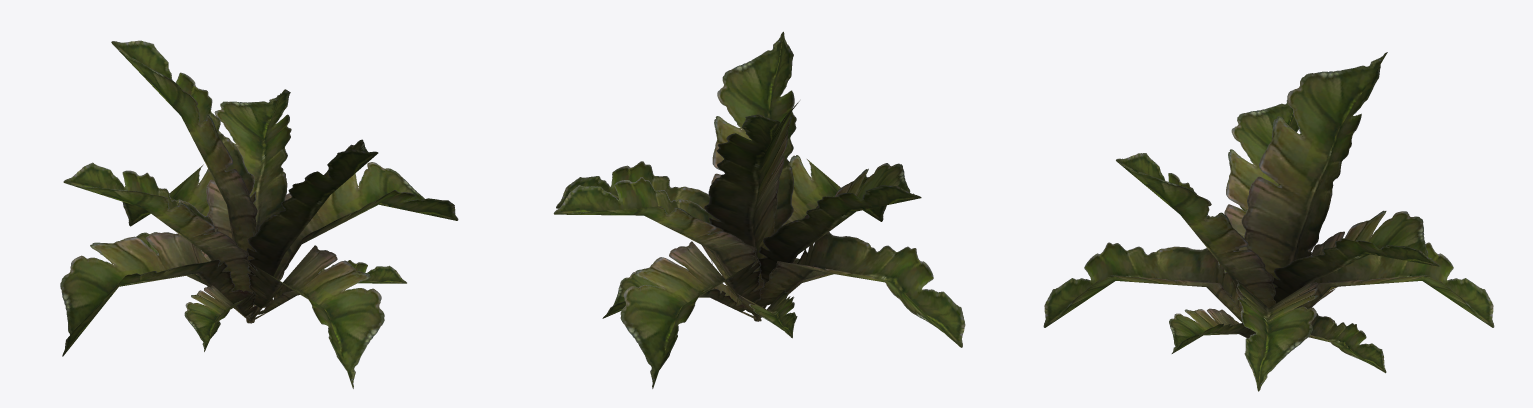
File: sholazarbroadleaf_bush01_dark.obj
3 renders of one model, left to right at view 1: azimuth 30°, elevation 25°; view 2: azimuth 150°, elevation 25°; view 3: azimuth 270°, elevation 25°, orthographic. The views are drawn at different scales.
Parts seen in each view (by area): view 1: sholazarbroadleaf_bush01_dark; view 2: sholazarbroadleaf_bush01_dark; view 3: sholazarbroadleaf_bush01_dark.
Boxes of the visible parts, left/top/right/bottom form: sholazarbroadleaf_bush01_dark: left=60, top=40, right=458, bottom=388; sholazarbroadleaf_bush01_dark: left=553, top=31, right=965, bottom=388; sholazarbroadleaf_bush01_dark: left=1043, top=52, right=1494, bottom=391.
Bounding box in the file's own units: 5.44 × 3.45 × 5.39.
1 material, 1 textured.
